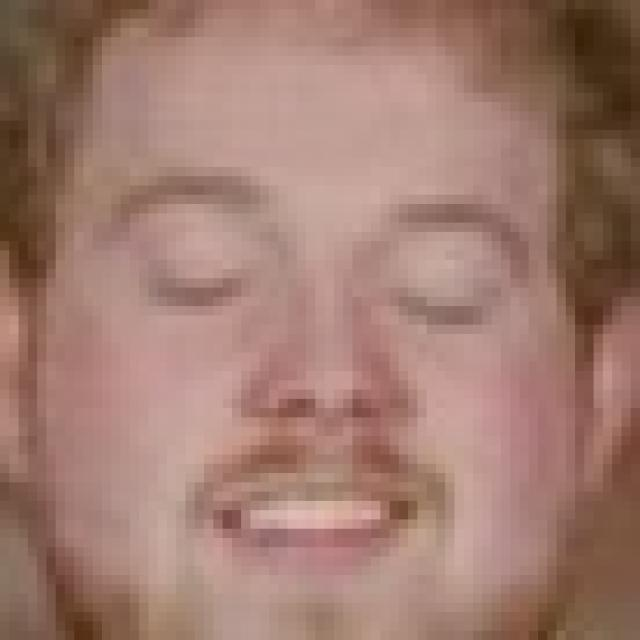Eyeclosed: (394, 282, 484, 337), (157, 262, 243, 312)
